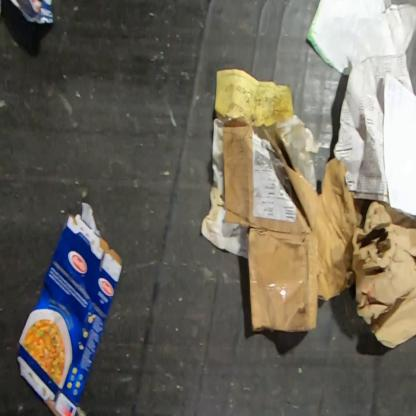cardboard: (221, 118, 365, 334), (16, 201, 124, 416)
